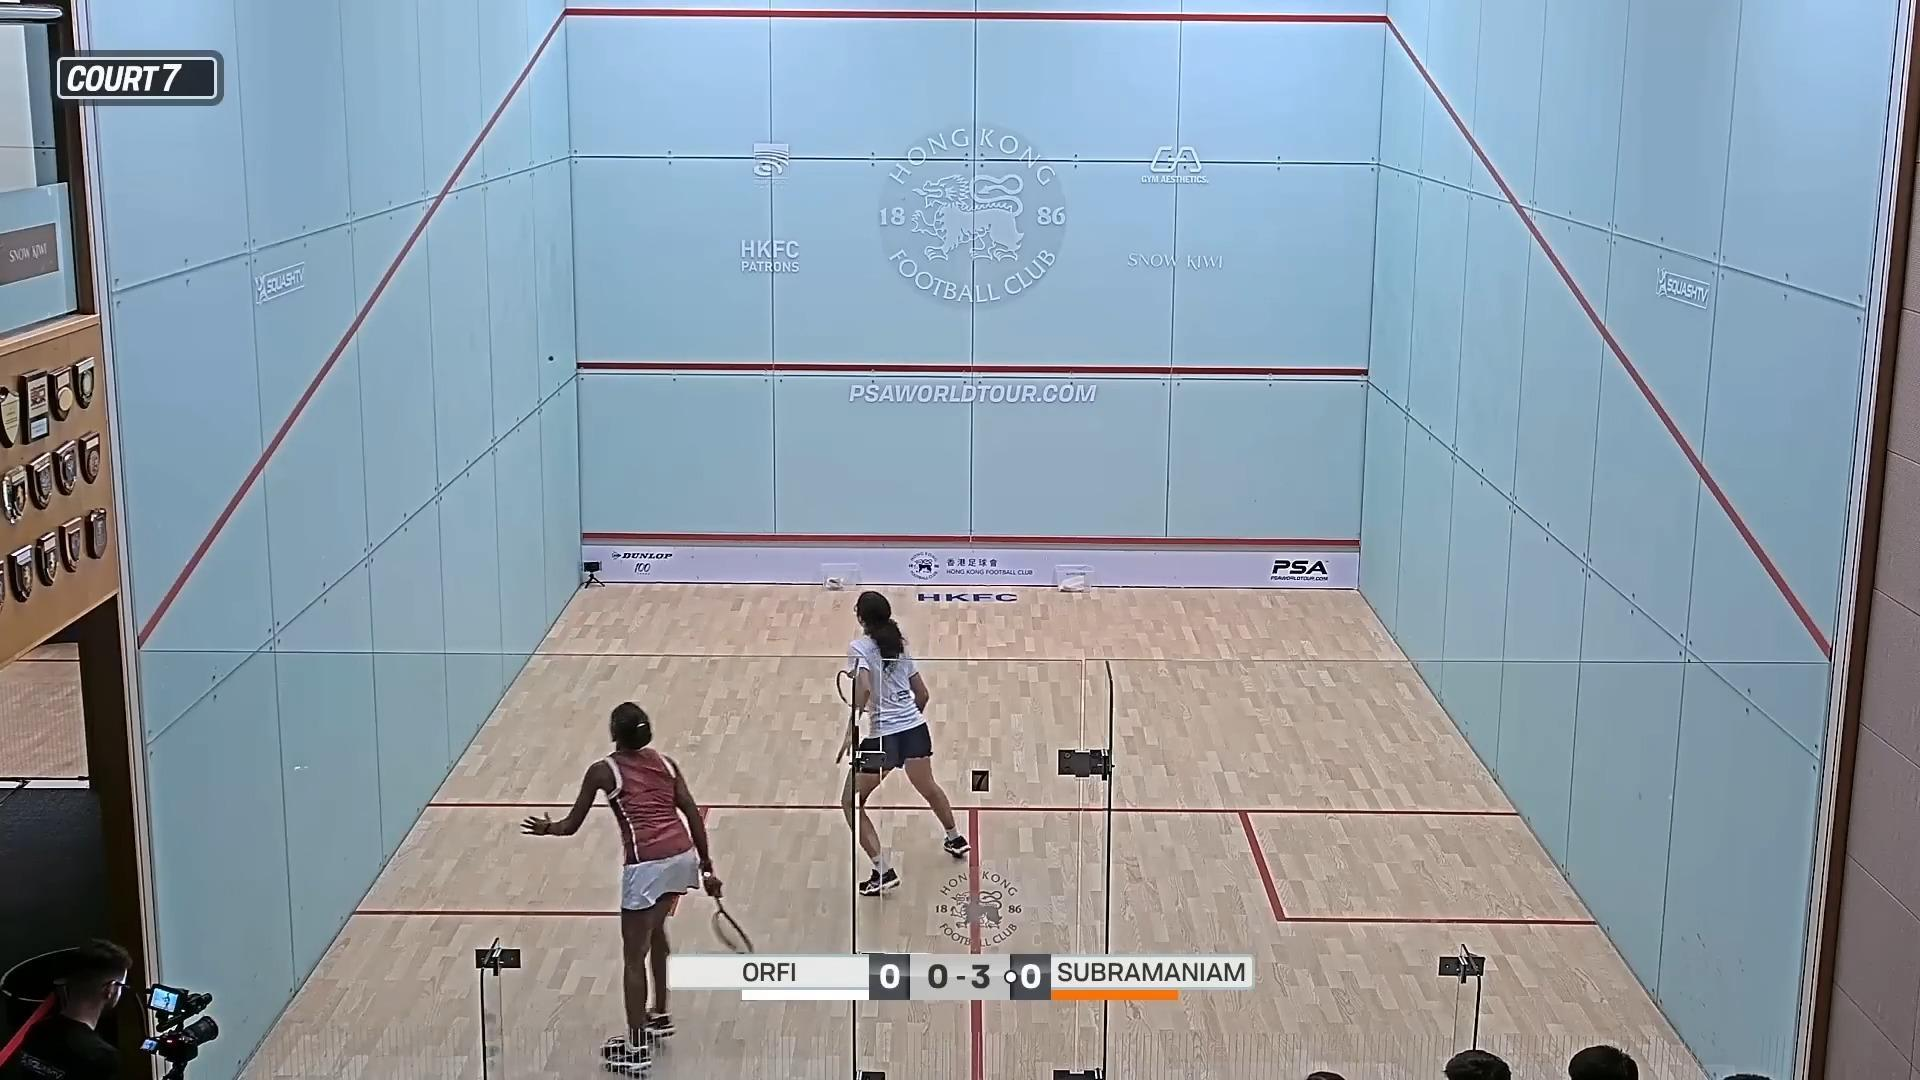Squash-Ball: (538, 343, 567, 373)
